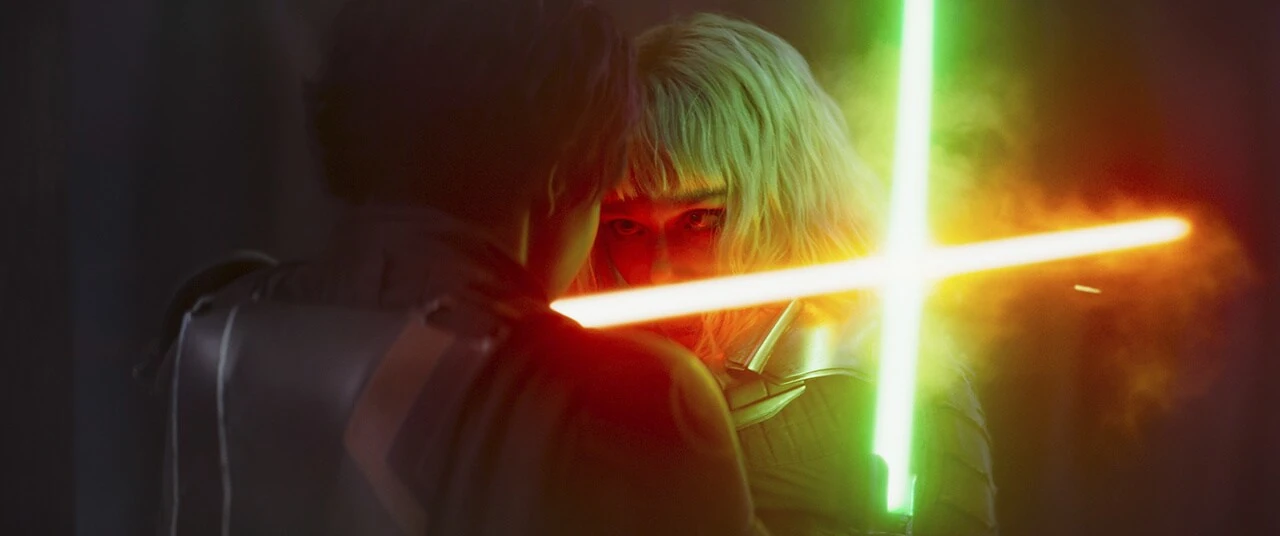cats: (509, 210, 1191, 341)
